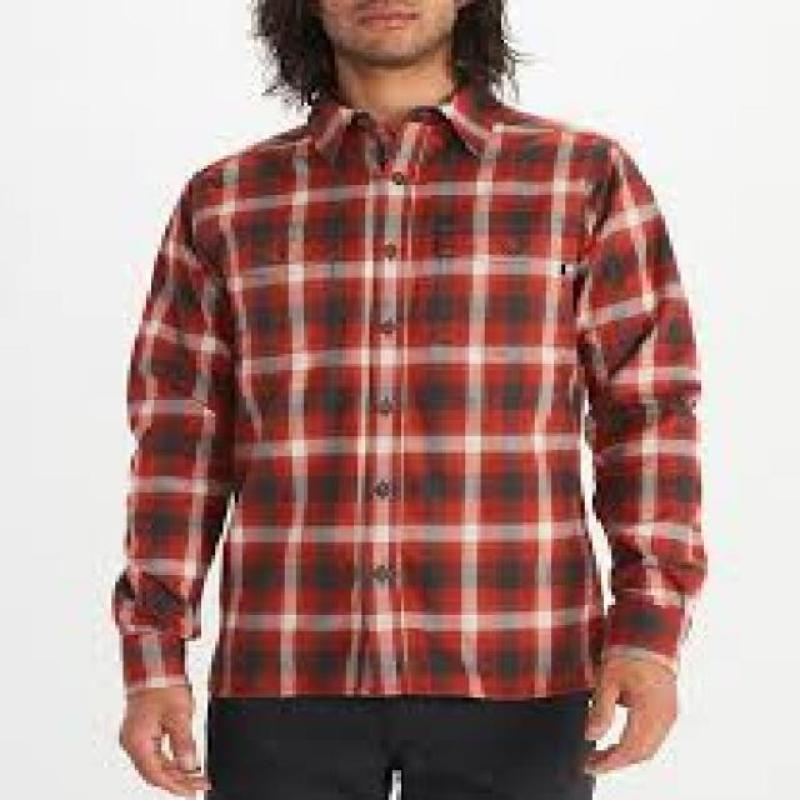long sleeve shirt: (105, 82, 708, 703)
trousers: (204, 695, 597, 800)
